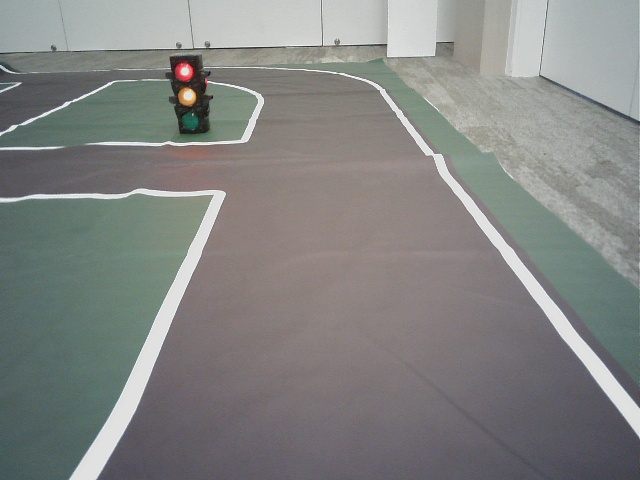red: (171, 57, 204, 132)
